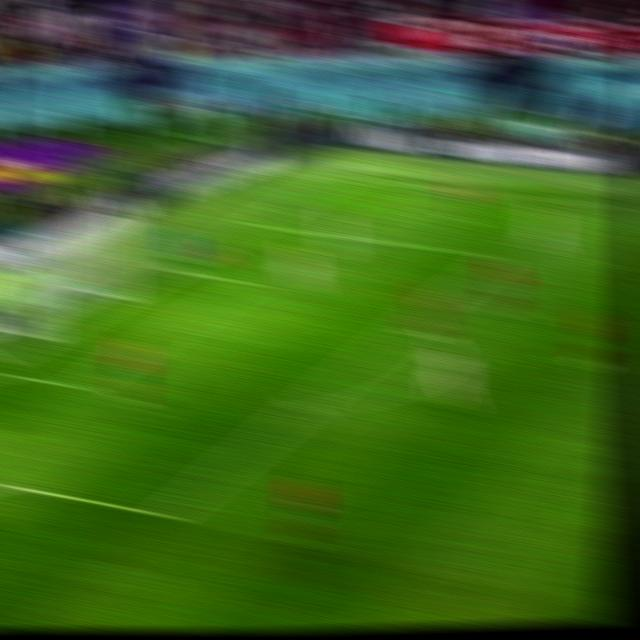bigarea_bottom_inner: (148, 498, 185, 532)
bigarea_top_inner: (487, 249, 513, 267)
bigarea_top_outter: (244, 216, 270, 230)
bottom_arc_area_intersection: (288, 395, 320, 418)
corner: (331, 171, 360, 183)
smallarea_bottom_inner: (64, 373, 97, 397)
smallarea_top_inner: (236, 273, 265, 290)
smallarea_top_outter: (157, 263, 184, 276)
top_arc_area_intersection: (411, 310, 434, 324)
